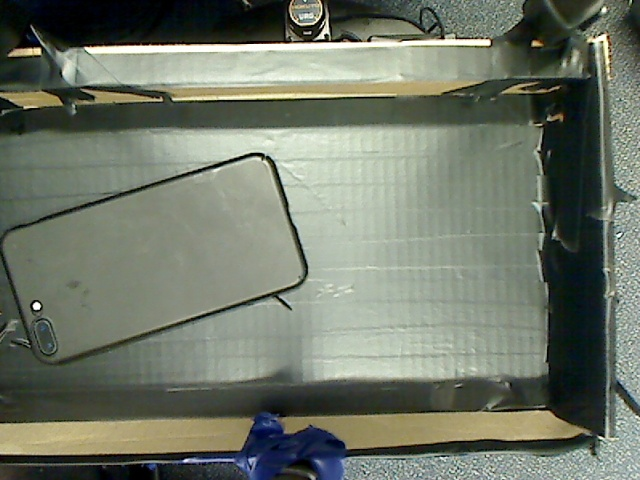phone: (4, 134, 295, 371)
